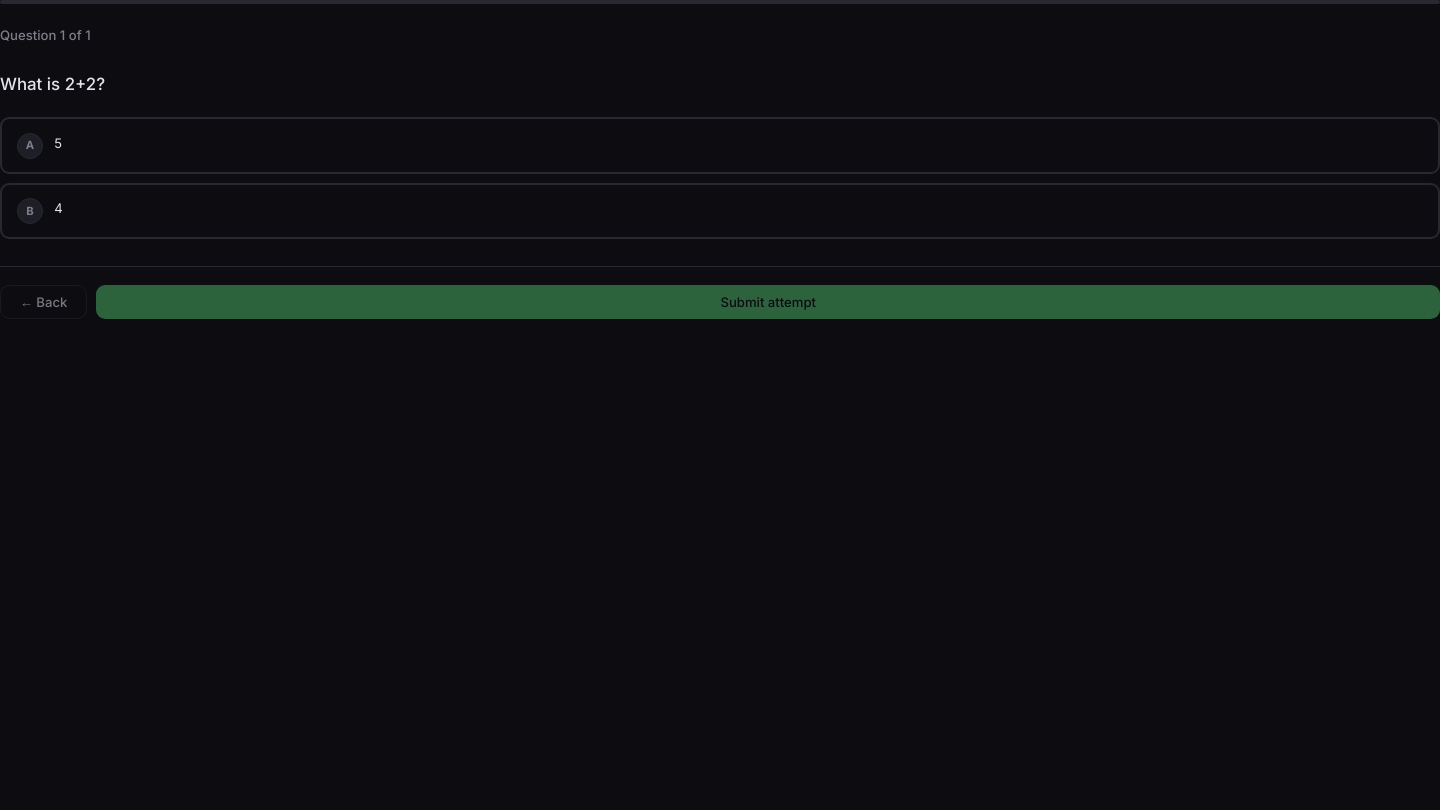
Test: AttemptFlow — attempt saving › shows sign-in hint in confirm dialog when anonymous
Click the text "4". click: (59,208)
box: [54,200,63,216]
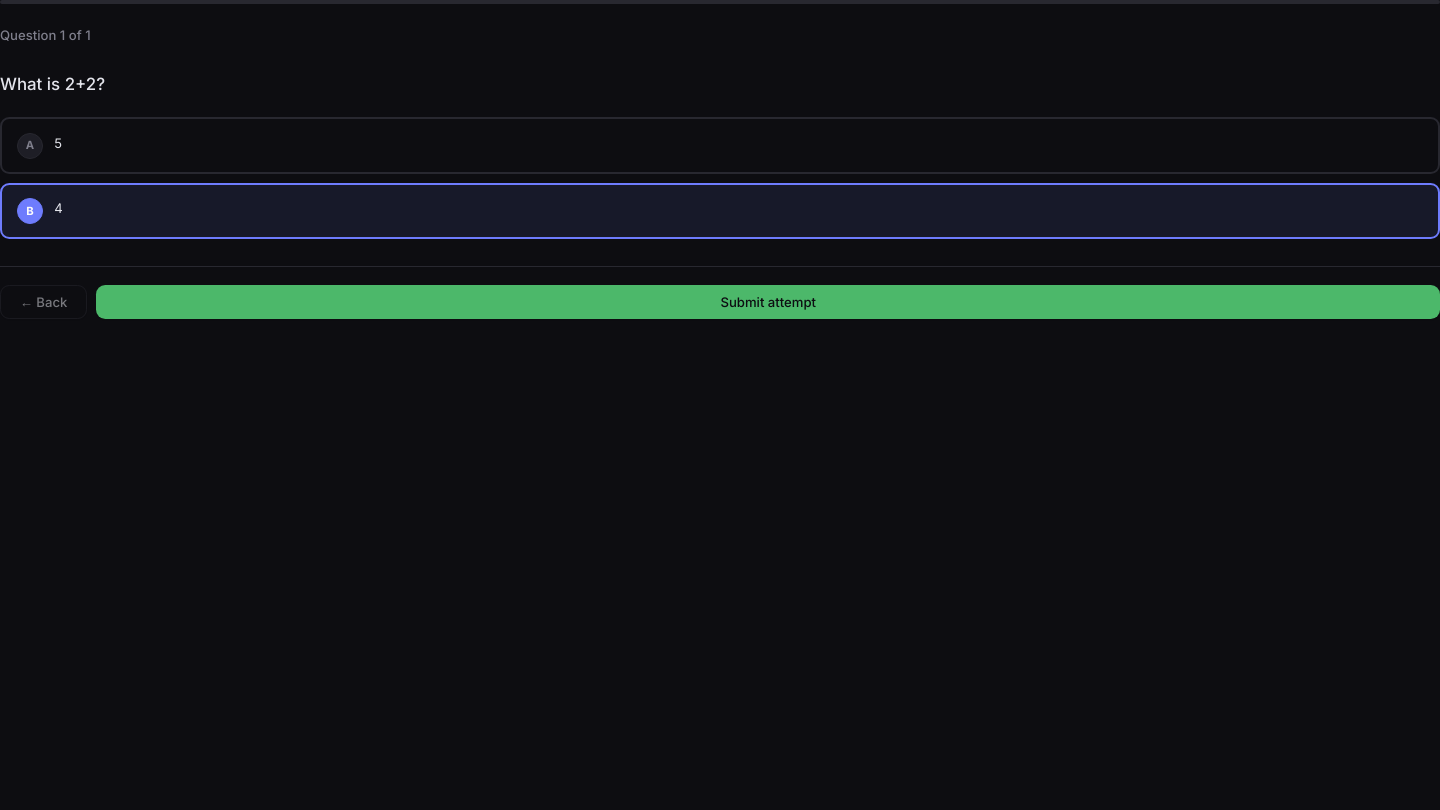
Click the button "Submit attempt". click: (768,302)
box: [96,285,1439,319]
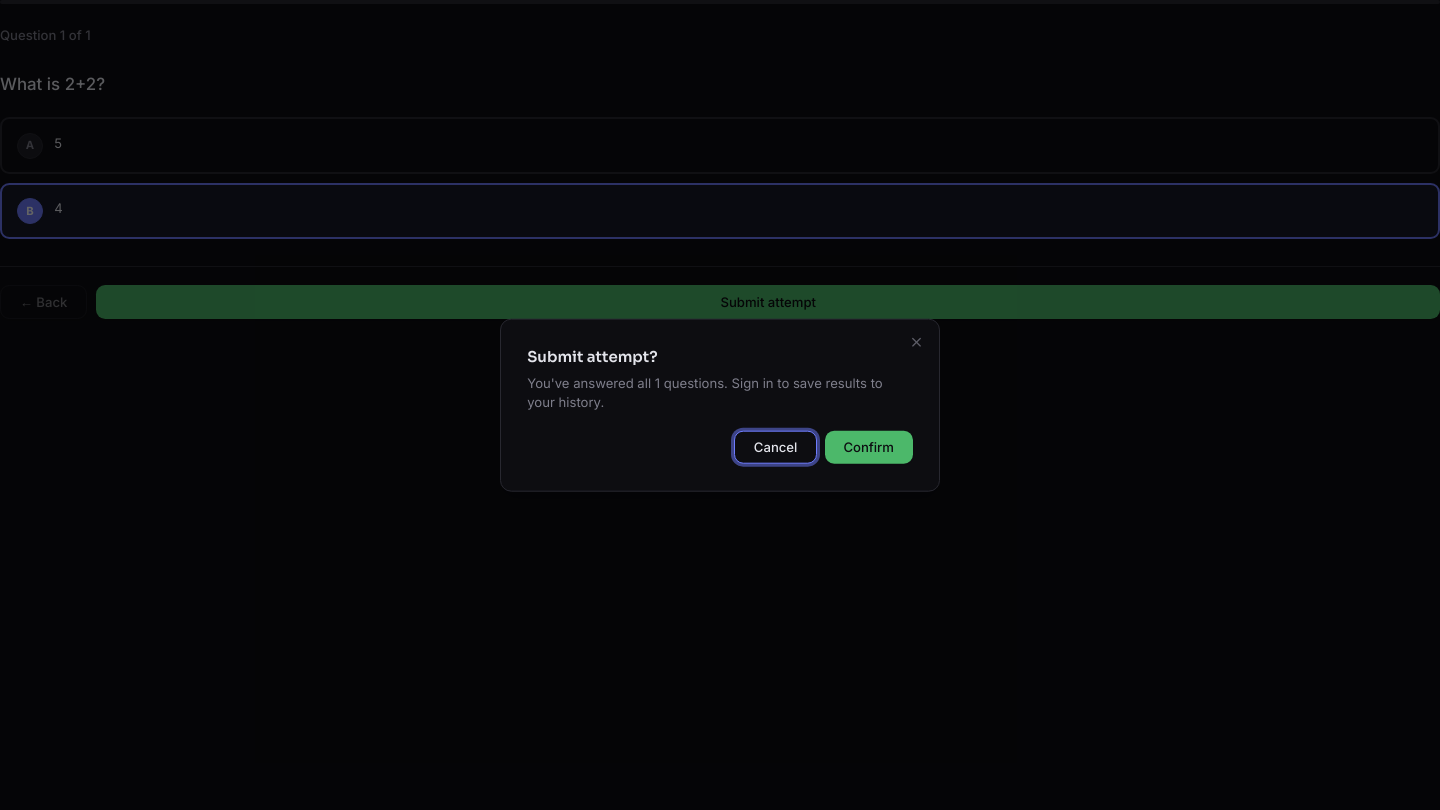
Expected: the text "Sign in to save" is shown, [527,375,883,410]
